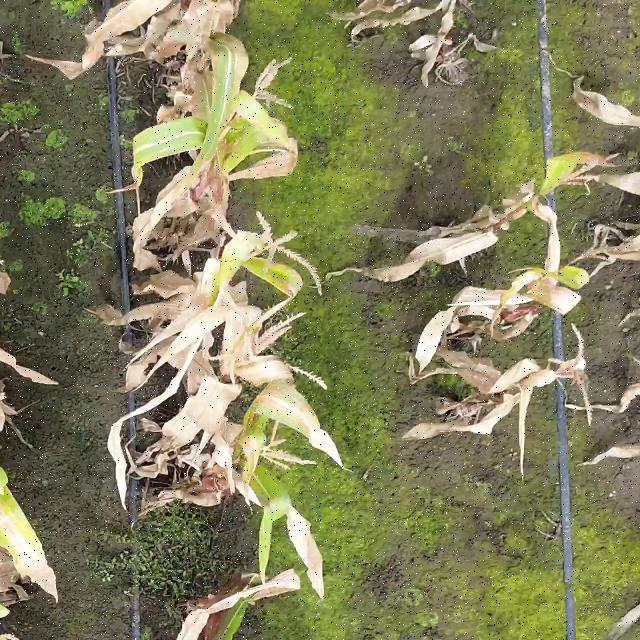northern-leaf-blight: (252, 383, 354, 472), (231, 88, 293, 162)
